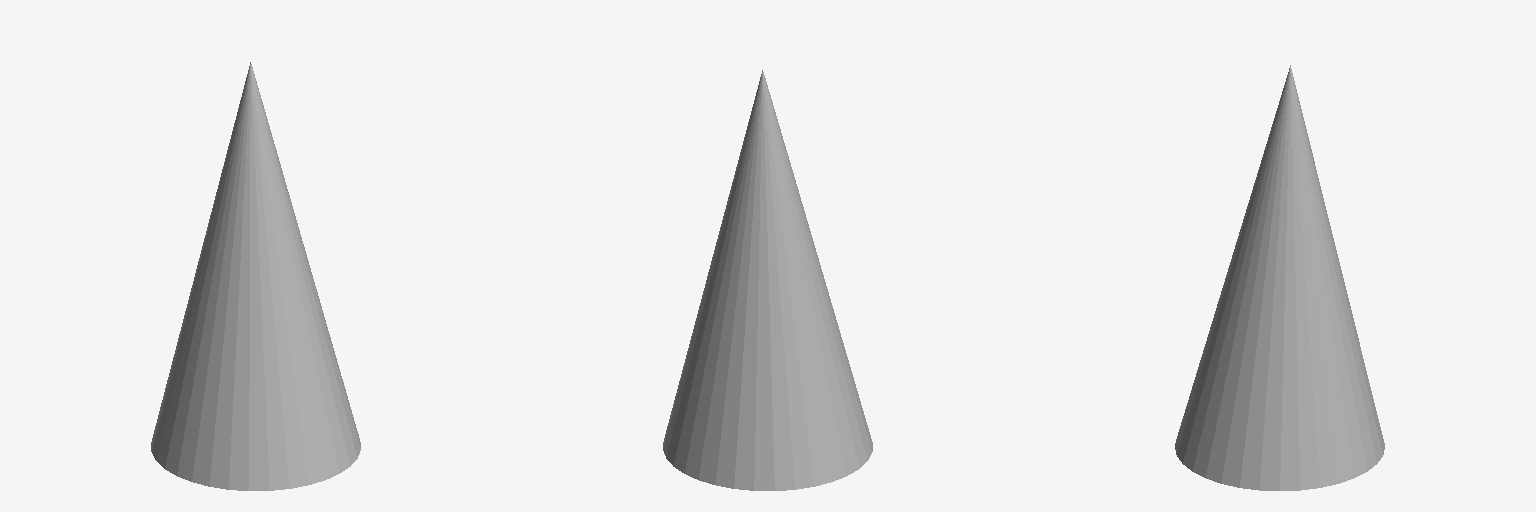
File: playerTest.obj
3 renders of one model, left to right at view 1: azimuth 30°, elevation 25°; view 2: azimuth 150°, elevation 25°; view 3: azimuth 270°, elevation 25°, orthographic.
Parts seen in each view (by area): view 1: Cone; view 2: Cone; view 3: Cone.
Part boxes in pixels (left/top/right/bottom): Cone: left=151, top=62, right=360, bottom=490; Cone: left=663, top=70, right=872, bottom=490; Cone: left=1175, top=65, right=1384, bottom=490.
Bounding box in the file's own units: 2 × 4 × 2.